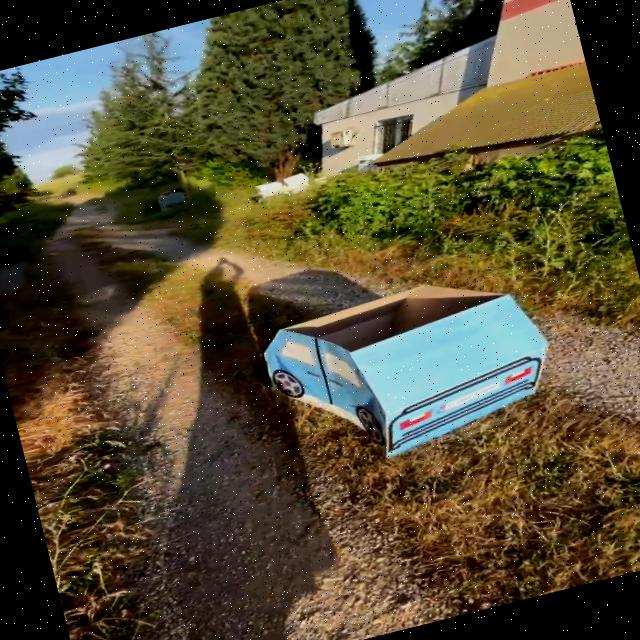blue_car: (251, 253, 592, 479)
